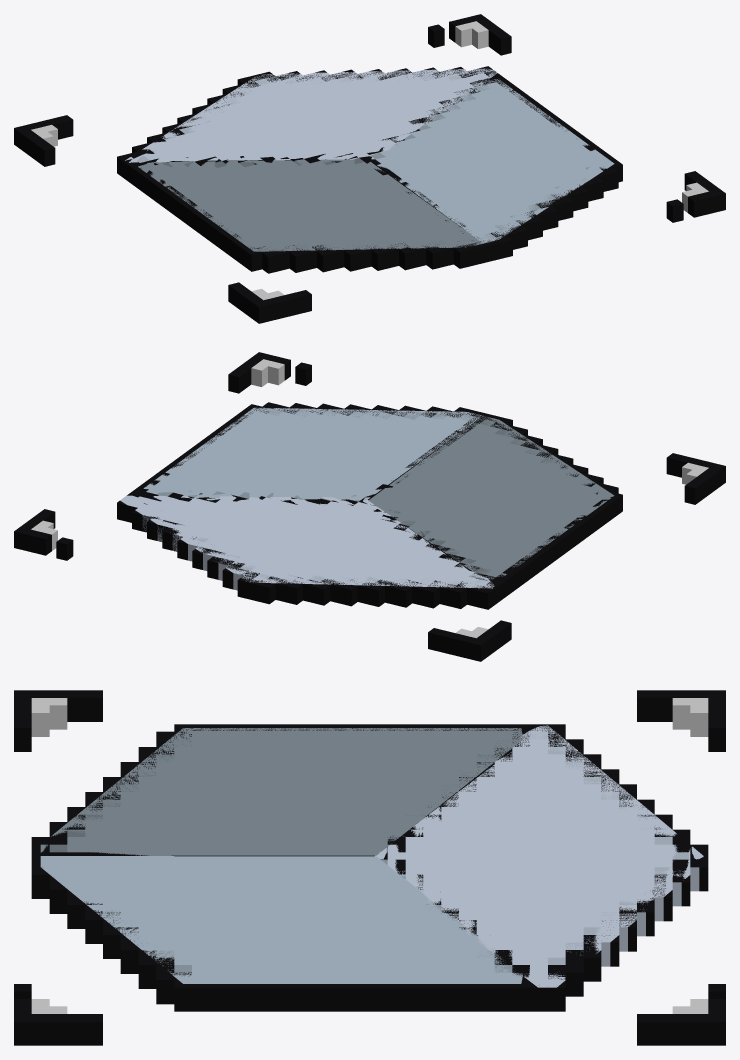
3 renders of one model, top to bottom at view 1: azimuth 30°, elevation 25°; view 2: azimuth 150°, elevation 25°; view 3: azimuth 270°, elevation 25°, orthographic. The views are drawn at different scales.
Parts seen in each view (by area): view 1: Curve; view 2: Curve; view 3: Curve.
Boxes of the visible parts, box(x1,y1,x2,y2) form: Curve: box(14, 14, 725, 323); Curve: box(14, 352, 725, 661); Curve: box(14, 690, 725, 1045).
Bounding box in the file's own units: 0.2954 × 0.01 × 0.2684.
